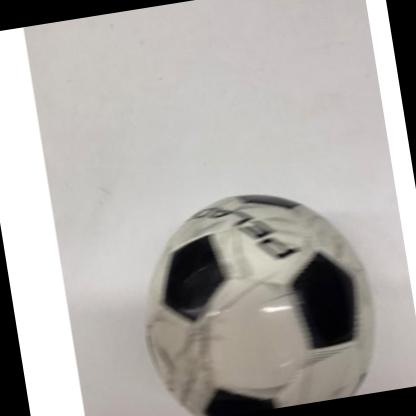ball: (125, 176, 384, 416)
